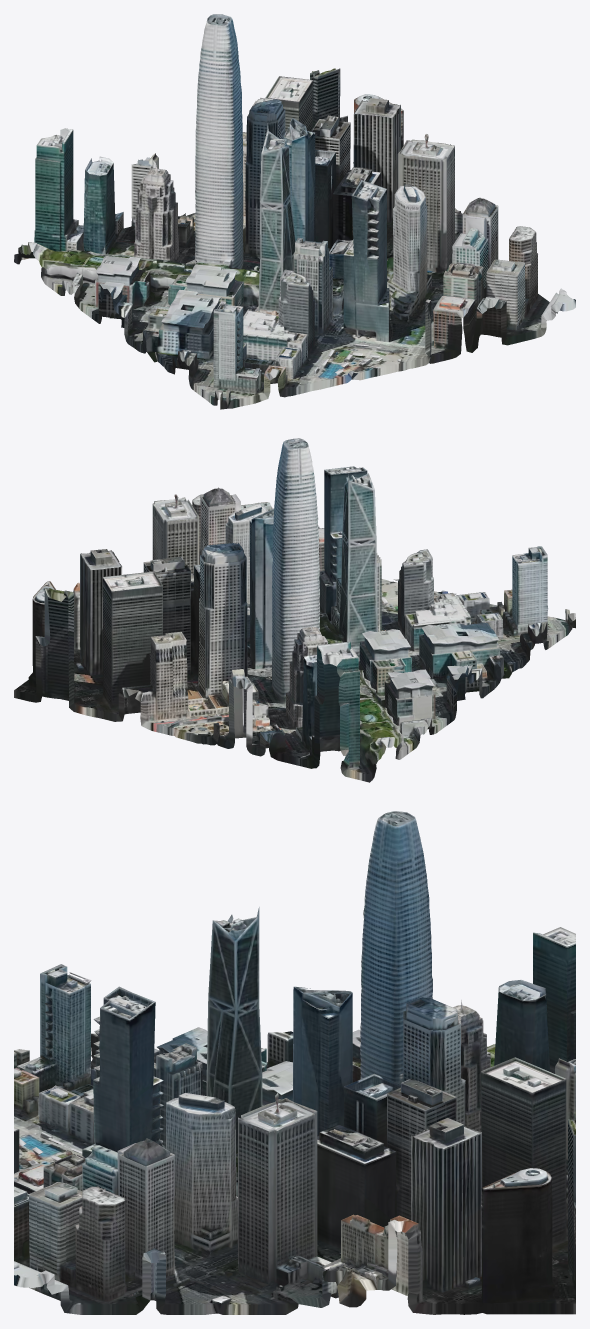
File: z16-10486-25327-h0-yup-uvflip-v3-world.glb
The picture shows the model from 3 angles, top to bottom: view 1: azimuth 30°, elevation 25°; view 2: azimuth 150°, elevation 25°; view 3: azimuth 270°, elevation 25°; orthographic projection. The views are drawn at different scales.
Bounding box in the file's own units: 483 × 338 × 485.
Materials: 1 (1 with a texture image).
